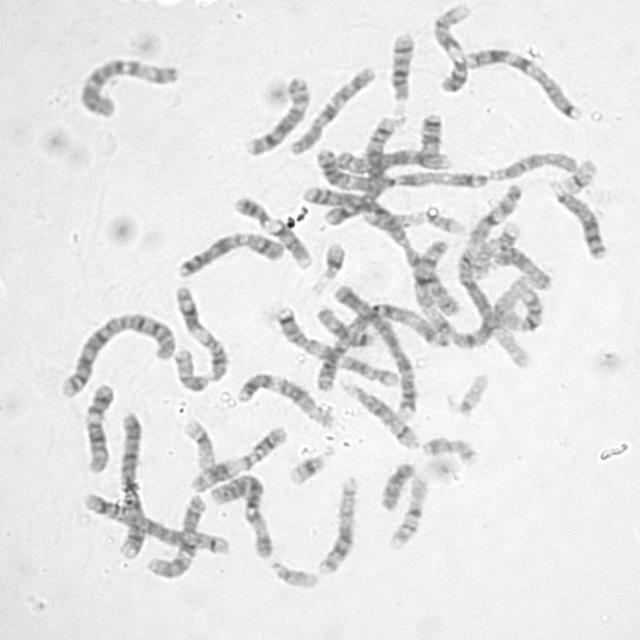A1: (403, 238, 537, 352), (452, 242, 532, 368)
A2: (294, 178, 466, 318), (53, 305, 178, 400)
A3: (308, 297, 450, 393), (310, 298, 453, 350)
B4: (328, 280, 421, 424), (113, 406, 148, 559)
B5: (76, 487, 235, 556), (319, 112, 398, 228)
C10: (283, 60, 377, 156), (140, 489, 208, 580)
C11: (184, 419, 290, 494), (169, 279, 232, 384)
C12: (231, 366, 336, 429), (78, 378, 117, 474)
C6: (73, 51, 181, 119), (205, 468, 275, 560)
C7: (268, 300, 400, 388), (461, 41, 585, 122)
C8: (240, 70, 312, 158), (329, 142, 451, 174)
C9: (227, 190, 315, 271), (427, 0, 474, 95)
D13: (546, 177, 610, 261), (312, 472, 361, 576)
D14: (336, 374, 422, 451), (383, 26, 417, 102)
D15: (484, 145, 580, 182), (488, 241, 554, 291)
E16: (462, 179, 524, 247), (384, 470, 432, 550)
E17: (375, 205, 471, 242), (467, 215, 522, 277)
E18: (310, 301, 378, 349), (414, 107, 445, 154)
F19: (176, 413, 218, 469), (553, 152, 600, 195)
F20: (168, 341, 210, 392), (417, 431, 479, 465)
G21: (283, 444, 331, 486), (316, 237, 348, 280)
G22: (263, 553, 320, 590), (450, 368, 491, 417)
X: (171, 226, 288, 280), (329, 142, 451, 174)
Y: (374, 456, 417, 512)
